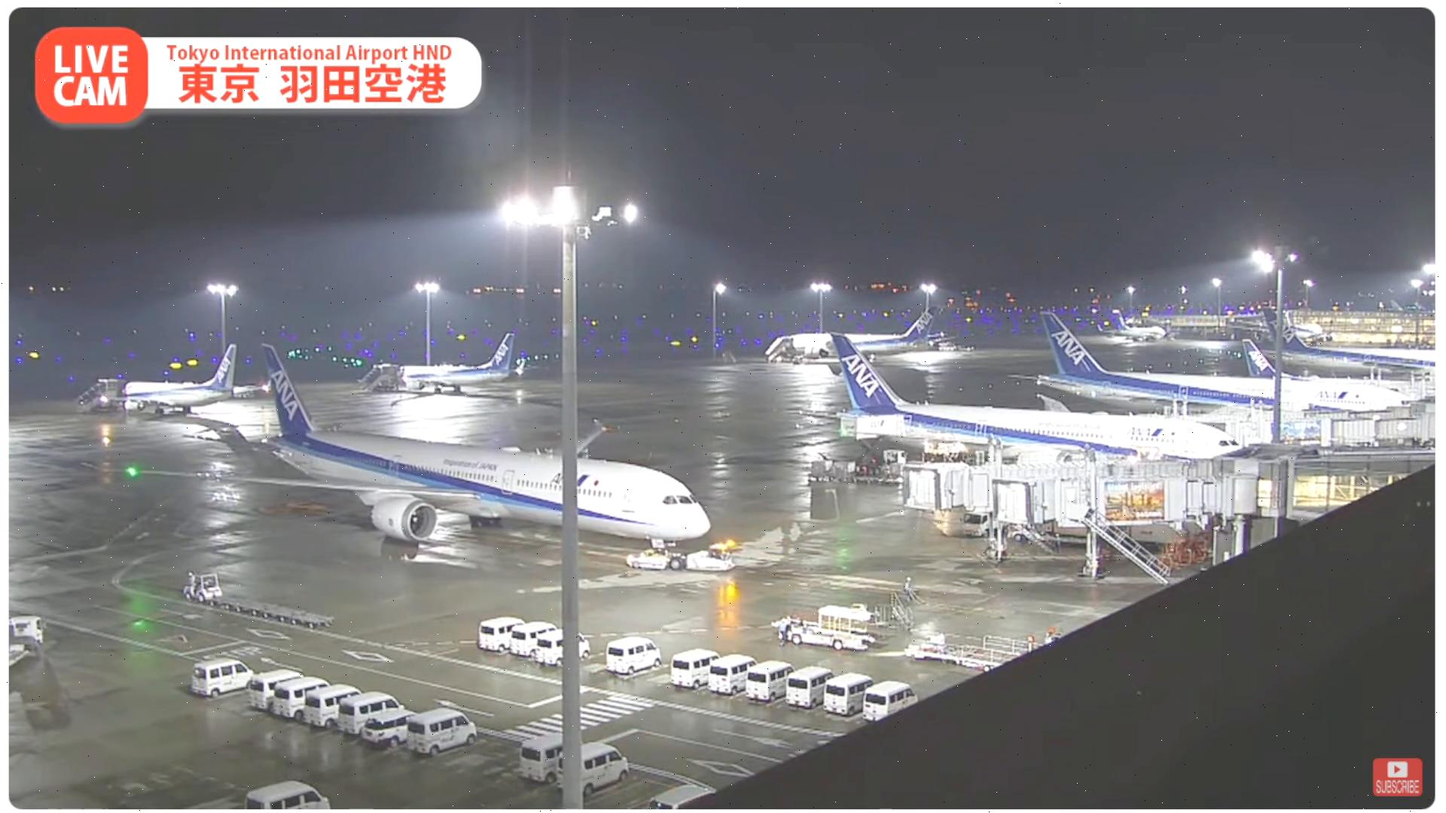Aerobridge: (899, 454, 1290, 518), (987, 473, 1277, 533)
Airplane: (117, 336, 719, 543)
Dolly: (217, 589, 341, 641)
JCPL: (898, 634, 1015, 675), (950, 628, 1054, 653)
Skyloader: (766, 593, 889, 657)
Tow Tug: (620, 541, 743, 575)
Tractor: (176, 570, 228, 611)
Window: (1291, 459, 1429, 518)
